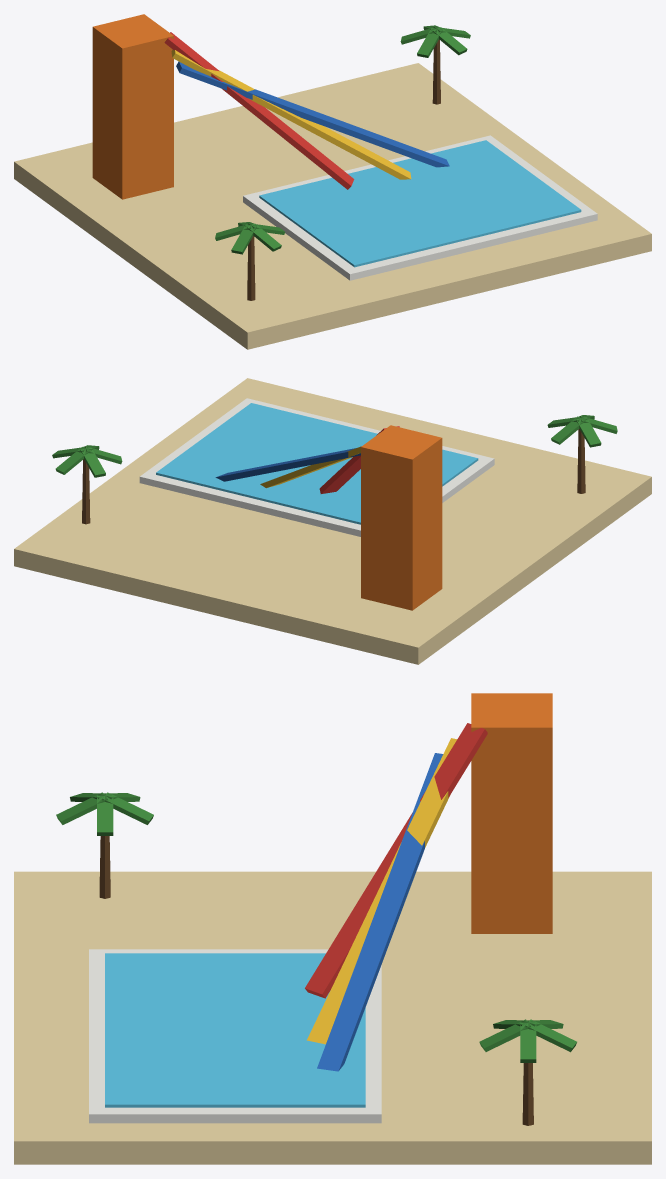
File: tourism_special_3.glb
3 renders of one model, top to bottom at view 1: azimuth 30°, elevation 25°; view 2: azimuth 150°, elevation 25°; view 3: azimuth 270°, elevation 25°, orthographic. The views are drawn at different scales.
Parts seen in each view (by area): view 1: tourism_special_3; view 2: tourism_special_3; view 3: tourism_special_3.
Part boxes in pixels (<box>): tourism_special_3: <box>14,14,651,349</box>; tourism_special_3: <box>14,378,651,664</box>; tourism_special_3: <box>14,693,651,1164</box>.
Bounding box in the file's own units: 1.98 × 0.78 × 1.96.
